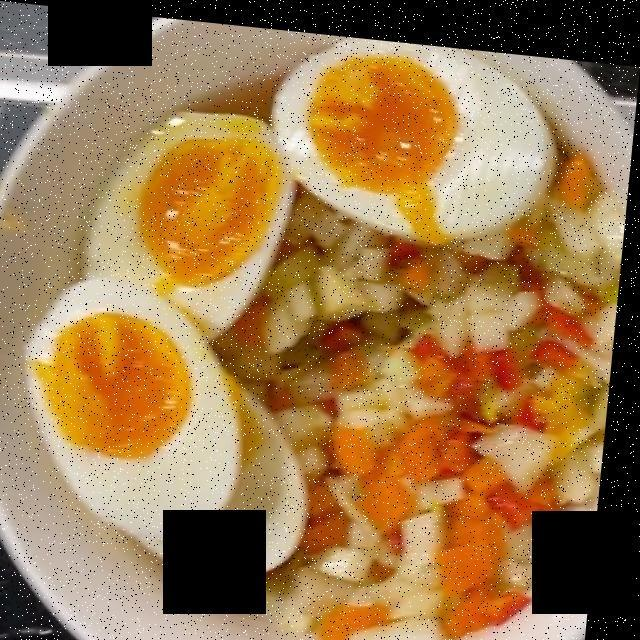egg: (56, 41, 589, 577)
